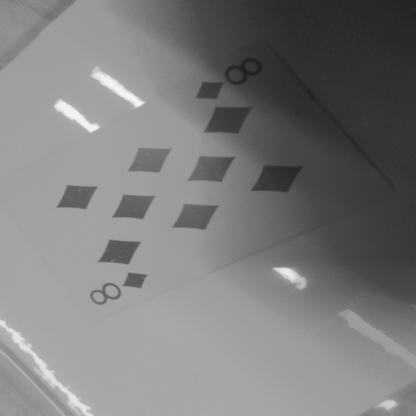8D: (182, 58, 278, 113), (82, 258, 170, 318)
